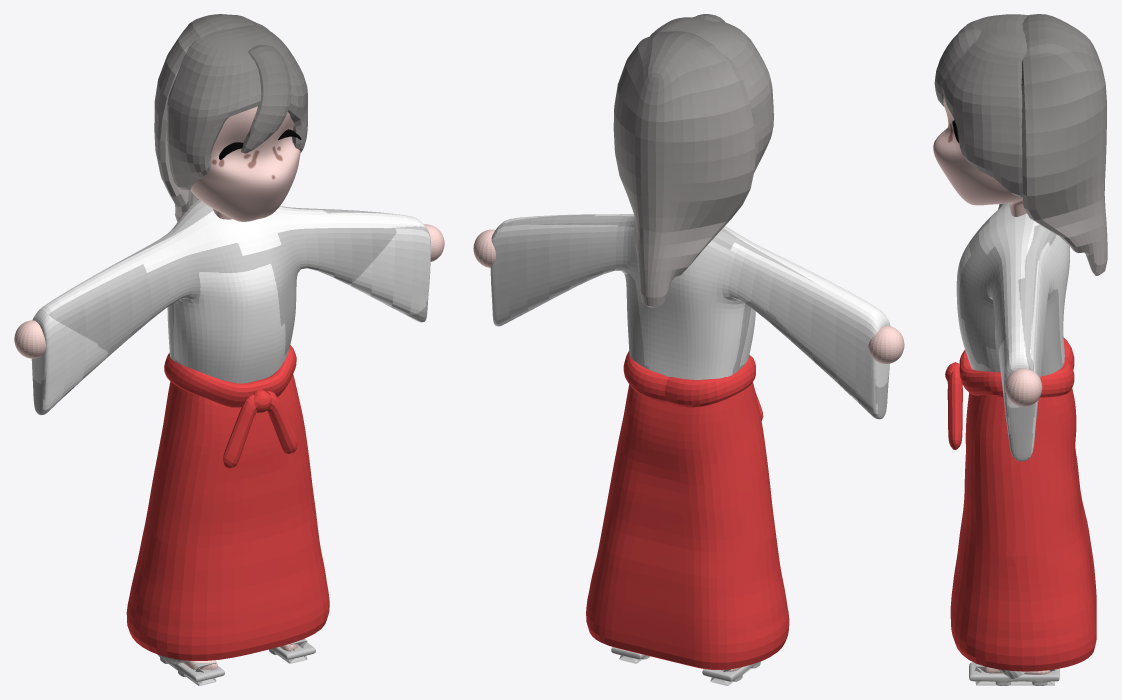
File: Omi-Onna.fbx
3 renders of one model, left to right at view 1: azimuth 30°, elevation 25°; view 2: azimuth 150°, elevation 25°; view 3: azimuth 270°, elevation 25°, orthographic.
Parts seen in each view (by area): view 1: HaarHinten; view 2: HaarHinten; view 3: HaarHinten.
Part boxes in pixels (bbox=[...]): HaarHinten: bbox=[14, 14, 444, 685]; HaarHinten: bbox=[473, 14, 904, 685]; HaarHinten: bbox=[933, 14, 1107, 685].
Bounding box in the file's own units: 111 × 158 × 39.11.
